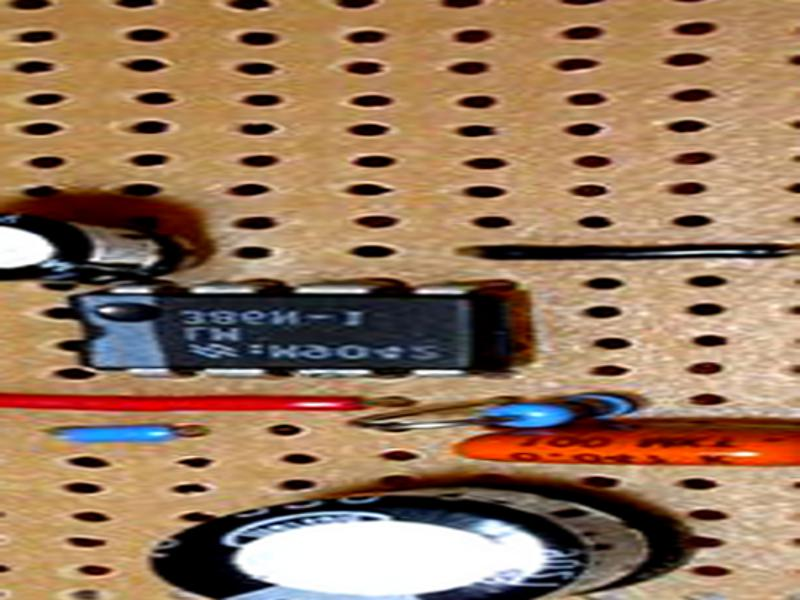Capacitor: (138, 477, 691, 600), (1, 208, 198, 291)
Resistor: (479, 386, 643, 432)
